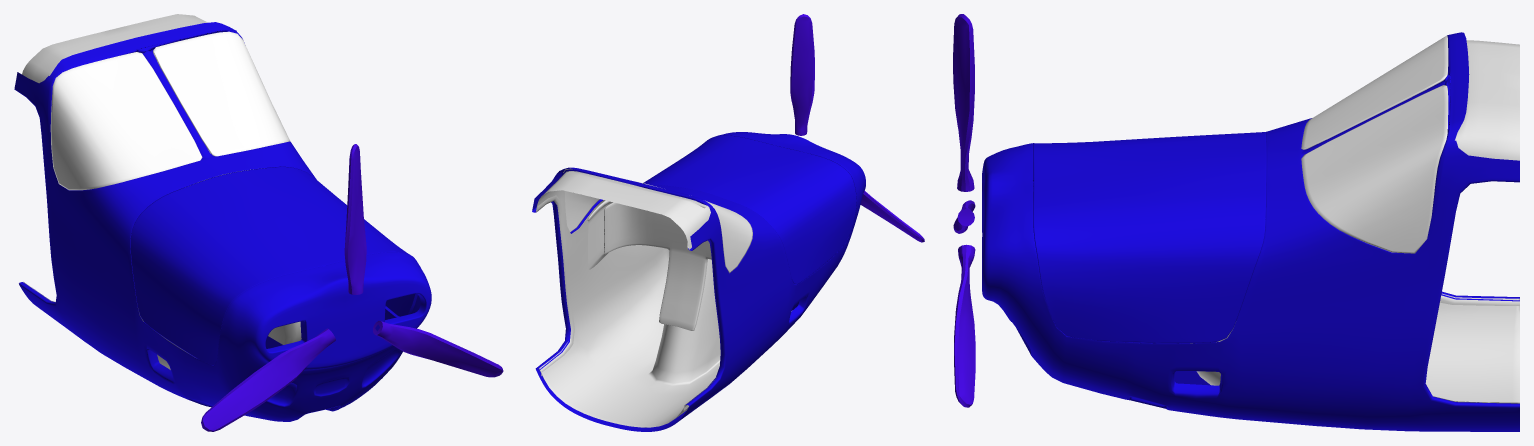
The picture shows the model from 3 angles, left to right: view 1: azimuth 30°, elevation 25°; view 2: azimuth 150°, elevation 25°; view 3: azimuth 270°, elevation 25°; orthographic projection. The views are drawn at different scales.
Visible parts, largest first — view 1: plane_body, plane_glass, plane_propeller; view 2: plane_body, plane_dashboard, plane_propeller, plane_glass; view 3: plane_body, plane_glass, plane_propeller.
Part boxes in pixels (box(x1,y1,x2,y2)): plane_body: box(14, 14, 431, 421); plane_glass: box(50, 31, 289, 190); plane_propeller: box(201, 144, 503, 431); plane_body: box(532, 132, 865, 431); plane_dashboard: box(604, 202, 711, 330); plane_propeller: box(790, 14, 924, 242); plane_glass: box(563, 168, 752, 273); plane_body: box(982, 32, 1519, 431); plane_glass: box(1301, 36, 1448, 253); plane_propeller: box(953, 14, 975, 407).
Bounding box in the file's own units: 1.86 × 2.02 × 2.62.
